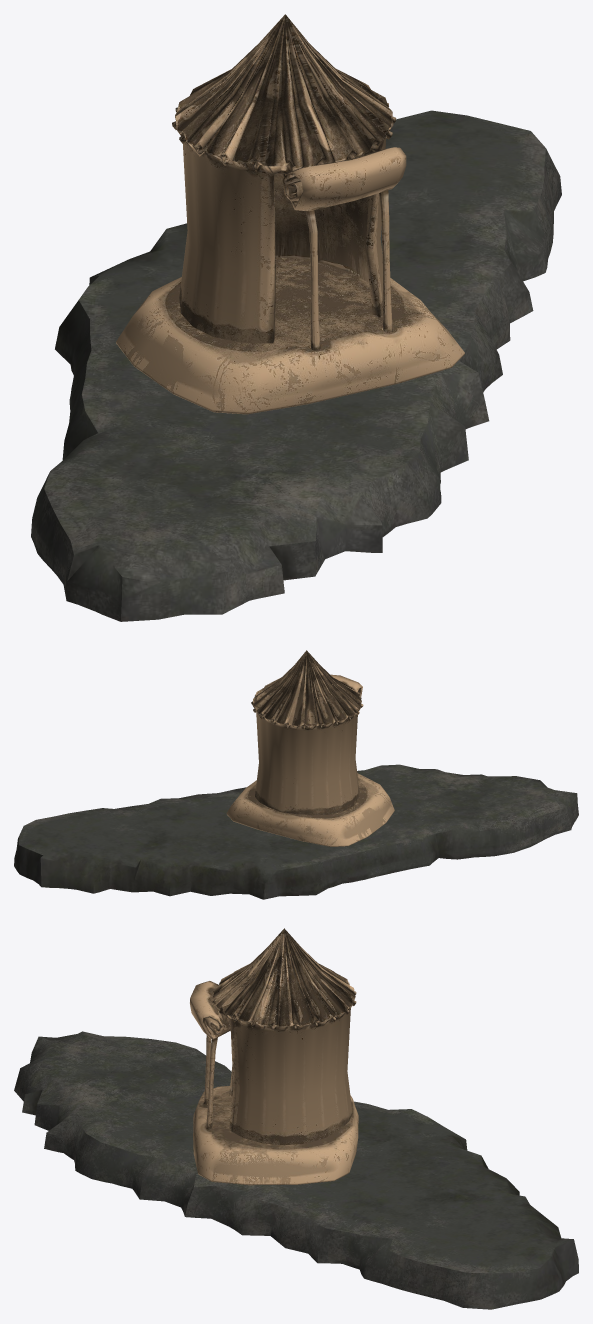
File: army.glb
3 views of the same model, one above another, from view 1: azimuth 30°, elevation 25°; view 2: azimuth 150°, elevation 25°; view 3: azimuth 270°, elevation 25° (orthographic). The views are drawn at different scales.
Visible parts, largest first — view 1: army; view 2: army; view 3: army.
Part boxes in pixels (x1,y1,x2,y2): army: [31, 14, 561, 621]; army: [14, 650, 578, 899]; army: [14, 928, 578, 1309].
Size of the model in its own units: 2.28 by 1.05 by 2.16.
2 materials, 2 textured.
